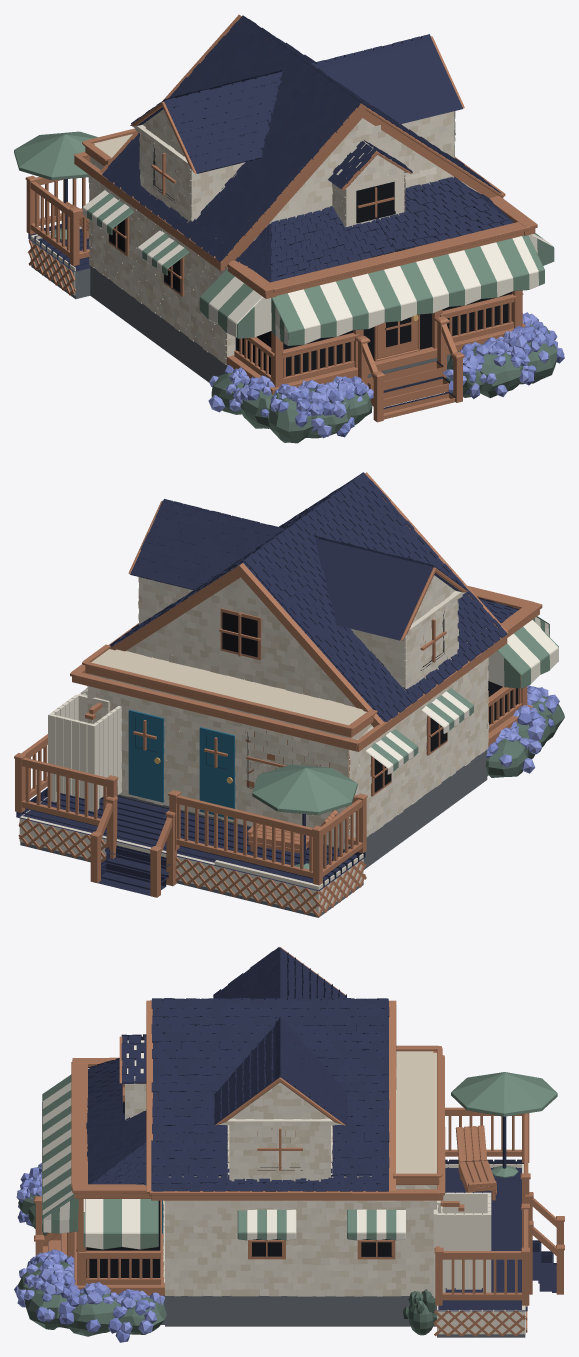
File: house_anchored.glb
3 views of the same model, one above another, from view 1: azimuth 30°, elevation 25°; view 2: azimuth 150°, elevation 25°; view 3: azimuth 270°, elevation 25° (orthographic).
Parts seen in each view (by area): view 1: LP_siding_shingles.001, LP_shingles_main.001, LP_awning_front.005, LP_hydrangeas.001, LP_shingles_roofTing.001, LP_dormer_roof.002, LP_shingles_dormerSide.001, LP_foundation.001, LP_porch_beam.002, Sphere.003, LP_awning_front.006, LP_rake_F_L.001 (+35 smaller); view 2: LP_siding_shingles.001, LP_shingles_main.001, LP_dormer_roof.002, LP_shingles_dormerSide.001, LP_deck.001, LP_body.001, LP_foundation.001, Sphere.003, LP_hydrangeas.001, LP_frieze_B.001, LP_fascia_R.001, LP_shower_wallF.002 (+35 smaller); view 3: LP_siding_shingles.001, LP_shingles_main.001, LP_hydrangeas.001, LP_foundation.001, LP_shingles_dormerSide.001, LP_body.001, LP_shingles_roofTing.001, LP_dormer_roof.002, LP_roof.001, LP_deck.001, LP_awning_front.005, LP_awning_front.006 (+29 smaller).
Part boxes in pixels (x1,y1,x2,y2): LP_siding_shingles.001: (88, 111, 480, 364); LP_shingles_main.001: (102, 16, 501, 262); LP_awning_front.005: (272, 235, 544, 345); LP_hydrangeas.001: (208, 312, 564, 443); LP_shingles_roofTing.001: (235, 177, 512, 282); LP_dormer_roof.002: (132, 38, 463, 173); LP_shingles_dormerSide.001: (131, 39, 411, 173); LP_foundation.001: (90, 266, 227, 382); LP_porch_beam.002: (270, 222, 530, 295); Sphere.003: (14, 131, 97, 180); LP_awning_front.006: (199, 233, 553, 337); LP_rake_F_L.001: (222, 103, 367, 268); LP_siding_shingles.001: (87, 577, 488, 849); LP_shingles_main.001: (110, 472, 507, 722); LP_dormer_roof.002: (130, 508, 465, 640); LP_shingles_dormerSide.001: (130, 500, 467, 590); LP_deck.001: (16, 788, 365, 891); LP_body.001: (88, 649, 487, 848); LP_foundation.001: (117, 750, 487, 869); Sphere.003: (252, 764, 357, 815); LP_hydrangeas.001: (485, 685, 564, 777); LP_frieze_B.001: (82, 644, 377, 737); LP_fascia_R.001: (70, 623, 357, 751); LP_shower_wallF.002: (48, 713, 96, 811); LP_siding_shingles.001: (125, 1079, 442, 1296); LP_shingles_main.001: (151, 998, 389, 1191); LP_hydrangeas.001: (14, 1163, 166, 1342); LP_foundation.001: (165, 1295, 436, 1326); LP_shingles_dormerSide.001: (213, 947, 347, 1123); LP_body.001: (165, 1051, 436, 1295); LP_shingles_roofTing.001: (86, 1059, 146, 1185); LP_dormer_roof.002: (214, 947, 345, 1124); LP_roof.001: (151, 1000, 388, 1190); LP_deck.001: (437, 1159, 527, 1311); LP_awning_front.005: (42, 1074, 74, 1231); LP_awning_front.006: (85, 1068, 158, 1249).
Size of the model in its own units: 5.02 by 3.99 by 7.29.
